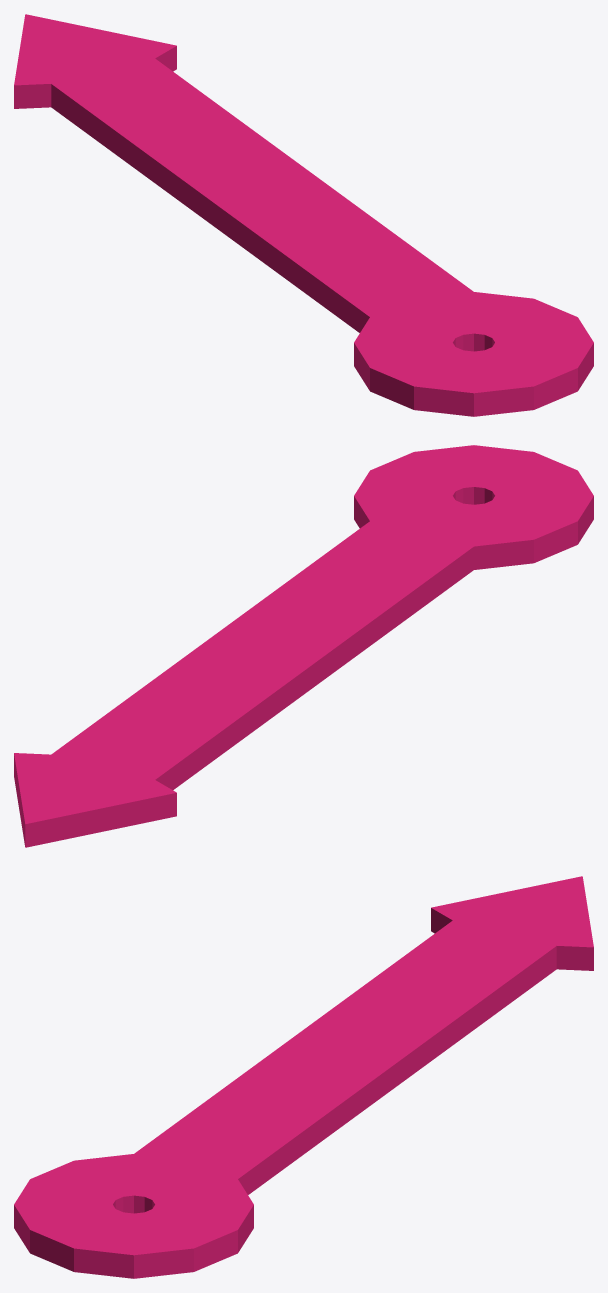
The model's file is minutePointer.fbx.
The picture shows the model from 3 angles, top to bottom: view 1: azimuth 30°, elevation 25°; view 2: azimuth 150°, elevation 25°; view 3: azimuth 330°, elevation 25°; orthographic projection.
Parts seen in each view (by area): view 1: MinutePointer; view 2: MinutePointer; view 3: MinutePointer.
Part boxes in pixels (x1,y1,x2,y2): MinutePointer: (14, 14, 593, 416); MinutePointer: (14, 445, 593, 847); MinutePointer: (14, 876, 593, 1278).
Bounding box in the file's own units: 22.46 × 2.43 × 95.18.
